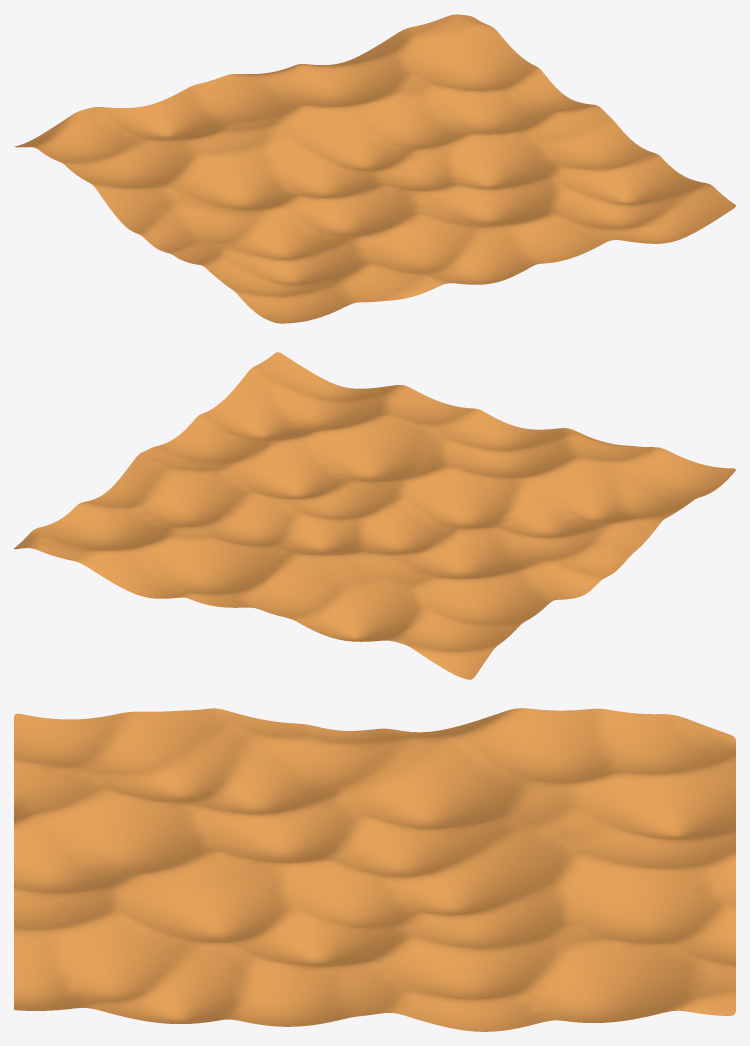
The model's file is sanddunes.glb.
3 renders of one model, top to bottom at view 1: azimuth 30°, elevation 25°; view 2: azimuth 150°, elevation 25°; view 3: azimuth 270°, elevation 25°, orthographic. The views are drawn at different scales.
Visible parts, largest first — view 1: Plane; view 2: Plane; view 3: Plane.
Part boxes in pixels (bbox=[...]): Plane: bbox=[14, 14, 735, 323]; Plane: bbox=[14, 352, 735, 679]; Plane: bbox=[14, 708, 735, 1031].
Bounding box in the file's own units: 10000 × 659 × 10000.
